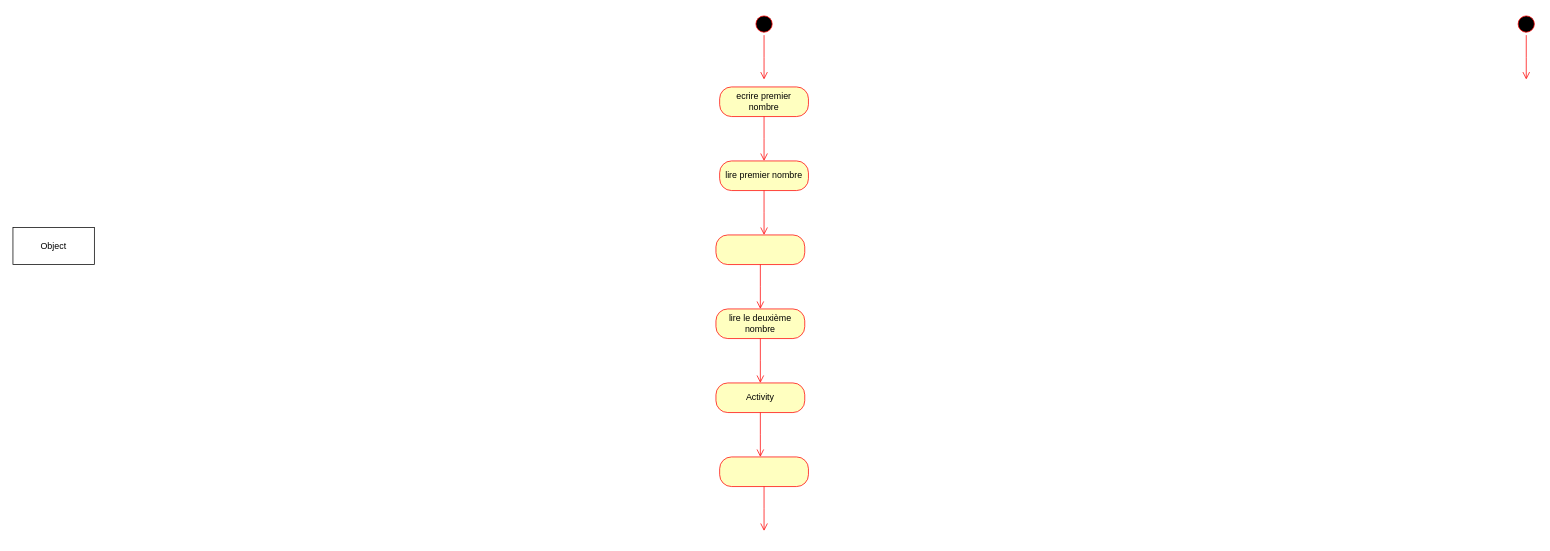
The diagram is 1550 pixels wide and 551 high, and some of its shapes have lost their labels. The shapes that lost their labels are listed below. From the top down, each one's centre as x and y in pixels, then its label:
point (760, 249): ecrire le deuxième nombre
point (763, 471): moyenne des
